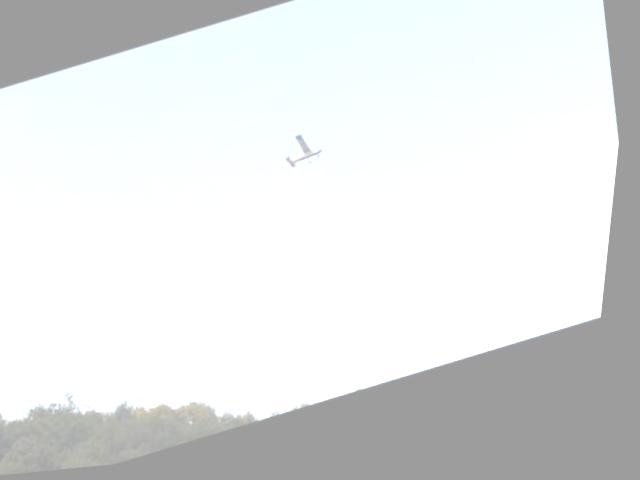uav: (281, 132, 334, 180)
